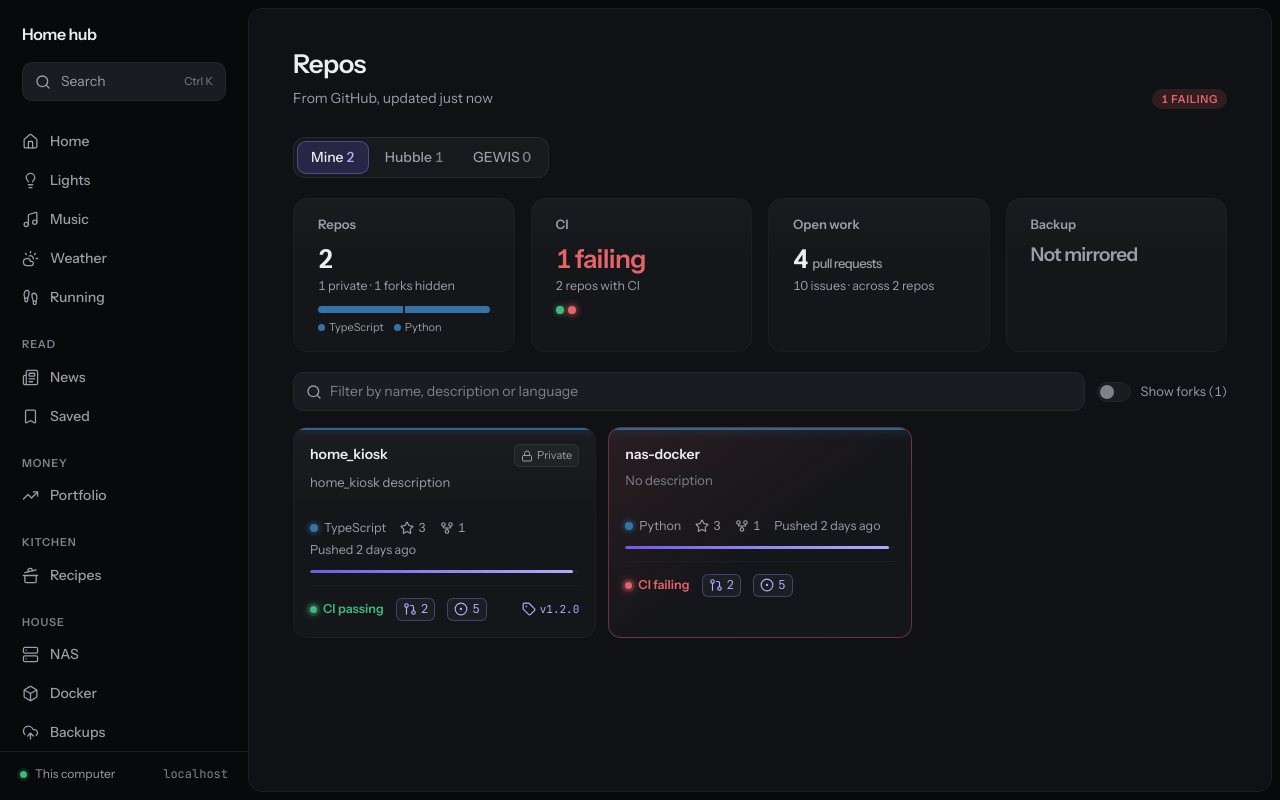
Test: ReposPage › shows forks behind the switch
Step 1. Click the switch → (1114, 392), box x1=1097 y1=382 x2=1131 y2=402
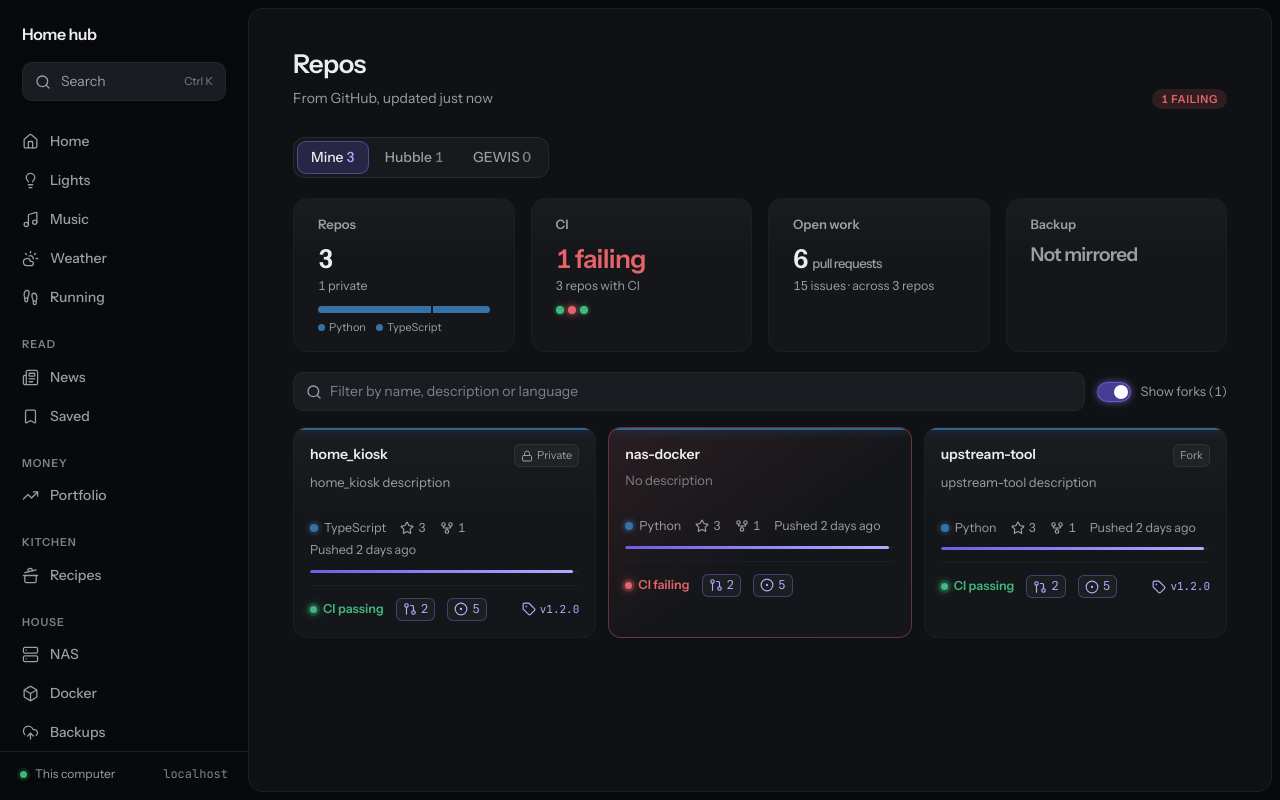
Expected: the text "Fork" is shown, x1=1173 y1=444 x2=1210 y2=467
Now the tab "Mine 3" is shown, box x1=297 y1=141 x2=369 y2=174
